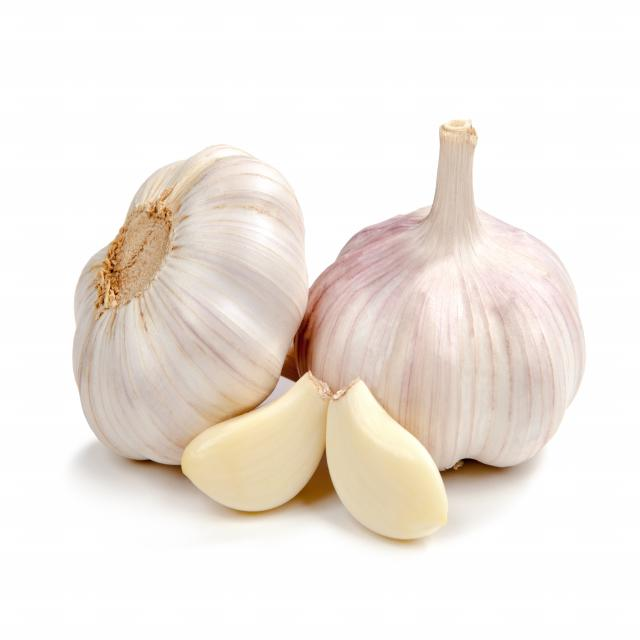garlic: (302, 146, 586, 382), (65, 141, 302, 406), (329, 377, 445, 546), (178, 415, 329, 520)
